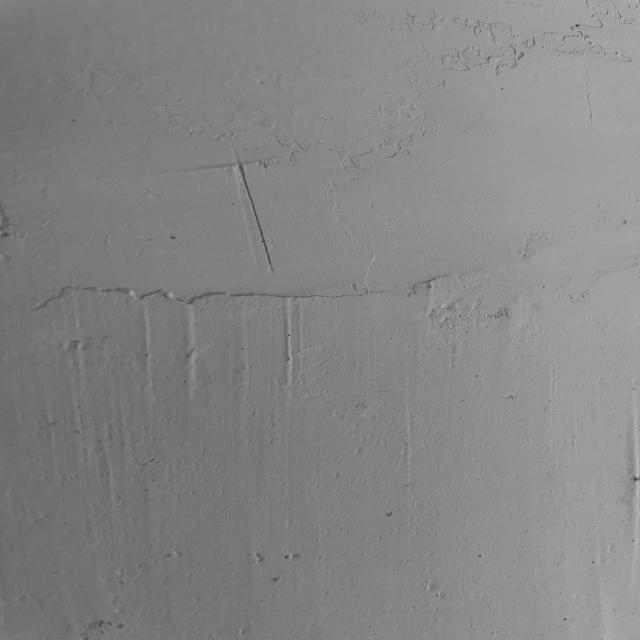rough and patchy surface: (31, 7, 605, 610)
